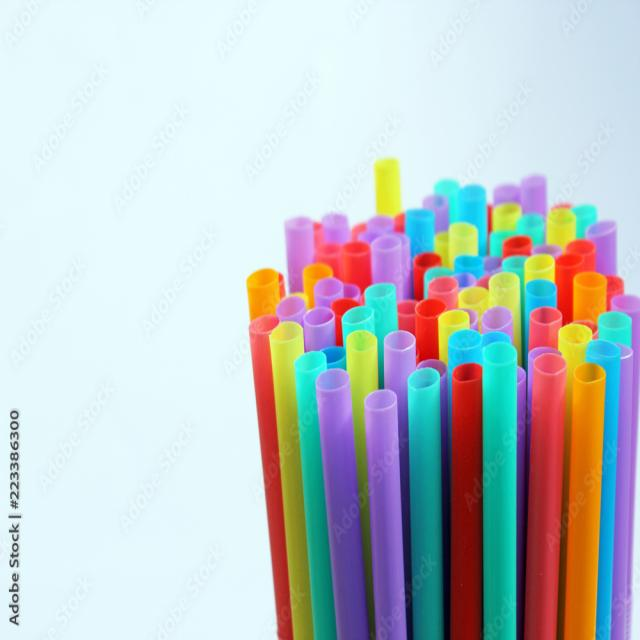plastic: (316, 358, 359, 640)
